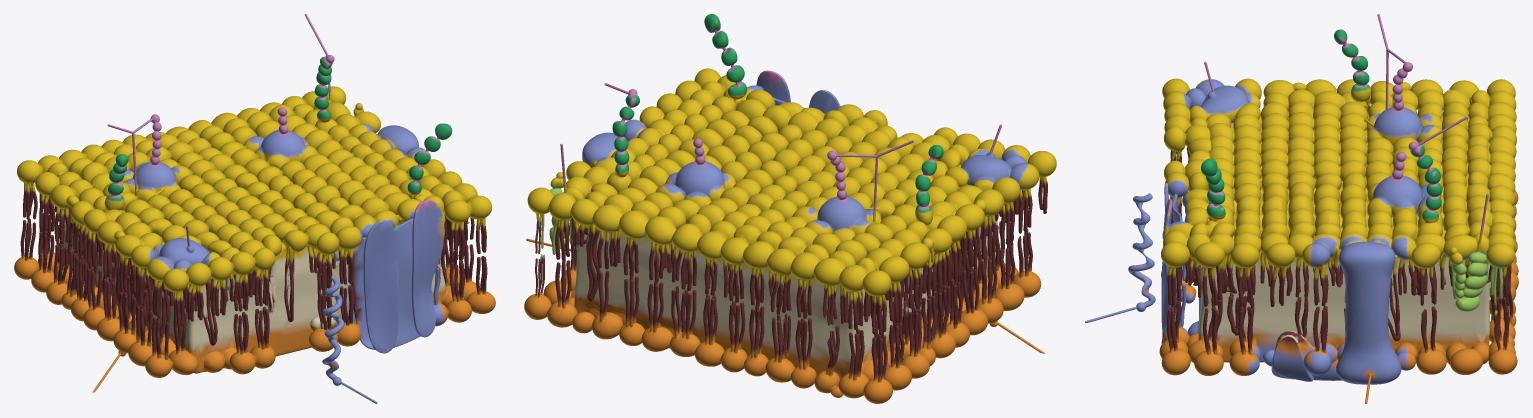
Rendered from membrana_colorida.glb.
3 views of the same model, side by side, from view 1: azimuth 30°, elevation 25°; view 2: azimuth 150°, elevation 25°; view 3: azimuth 270°, elevation 25° (orthographic). The views are drawn at different scales.
Parts seen in each view (by area): view 1: Mesh_0; view 2: Mesh_0; view 3: Mesh_0.
Part boxes in pixels (x1=…): Mesh_0: x1=14, y1=14, x2=495, y2=403; Mesh_0: x1=524, y1=14, x2=1056, y2=403; Mesh_0: x1=1085, y1=14, x2=1518, y2=403.
Size of the model in its own units: 1.9 by 1.02 by 1.53.
